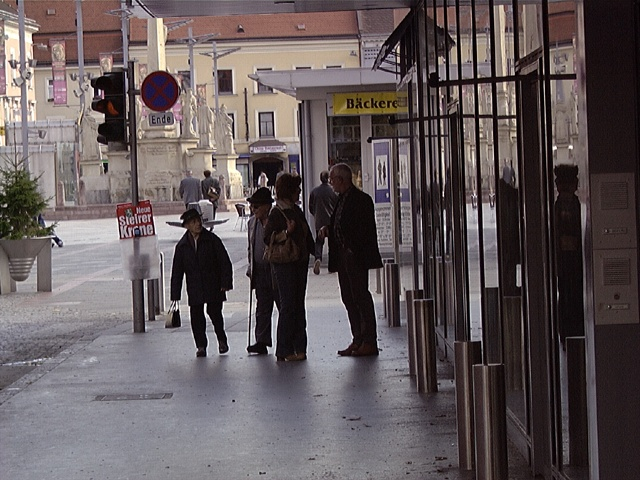person: (321, 159, 385, 360), (260, 165, 311, 363), (169, 210, 232, 358)
